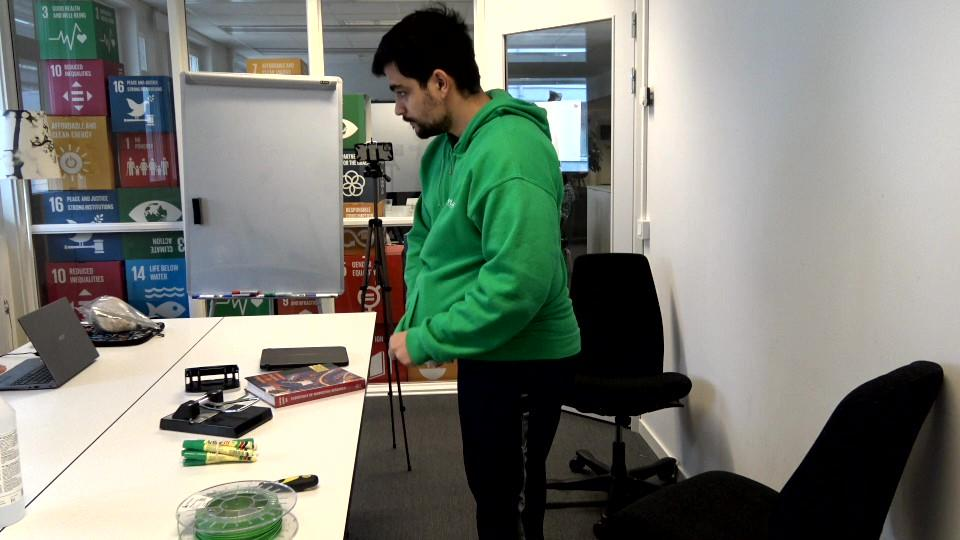shoplifting: (378, 9, 577, 540)
